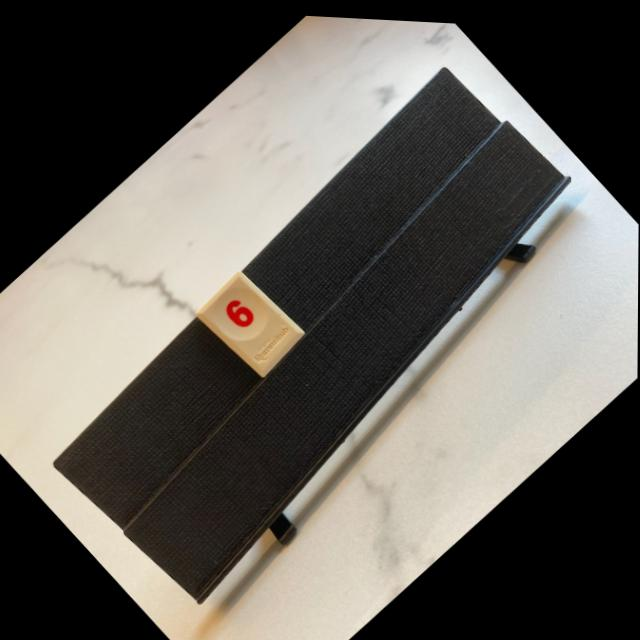red_6: (197, 268, 305, 374)
